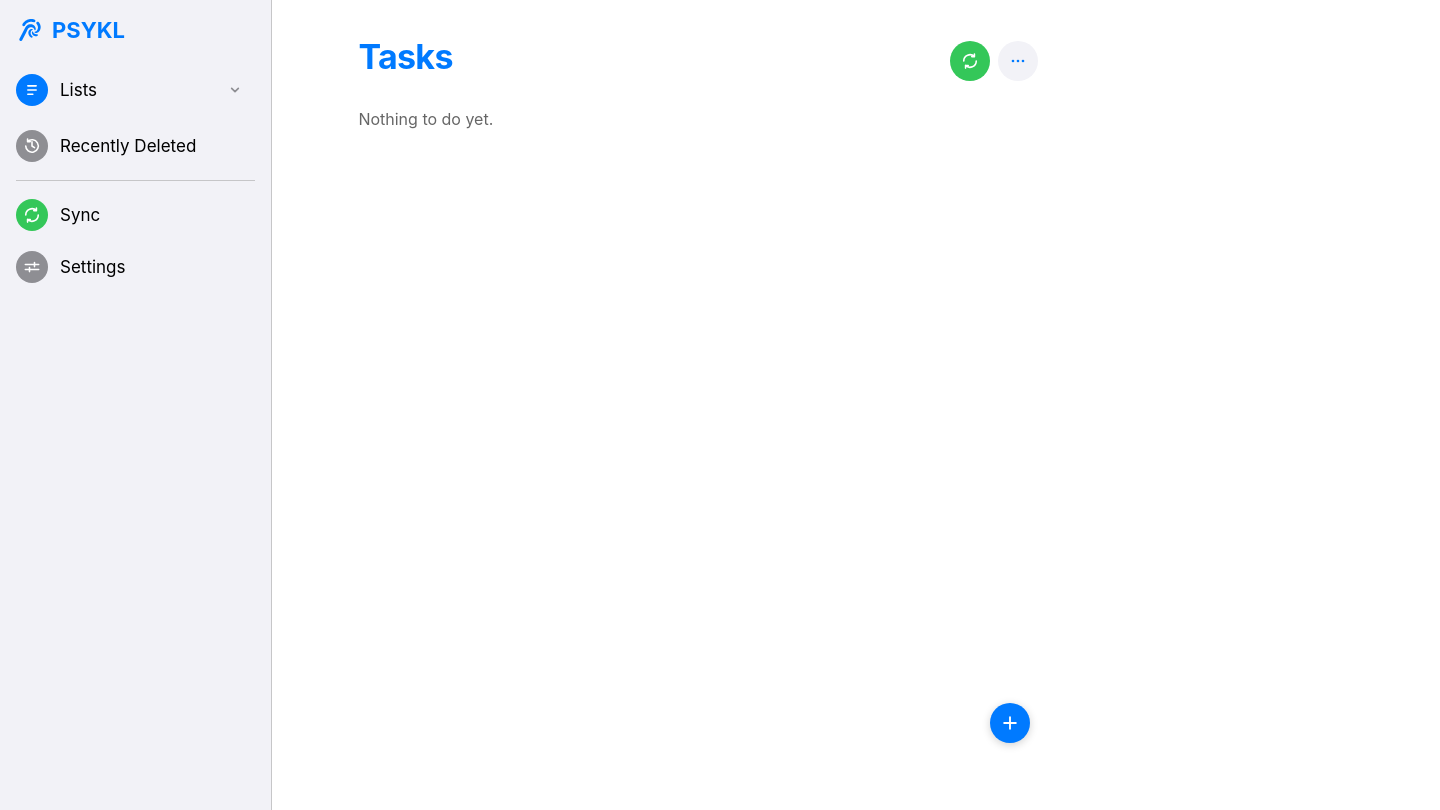
Scenario: App header in selection mode (Unit) › restores the ordinary header on the way out
Click the button named "List options" at [1018, 60], box 998,40 -> 1038,80
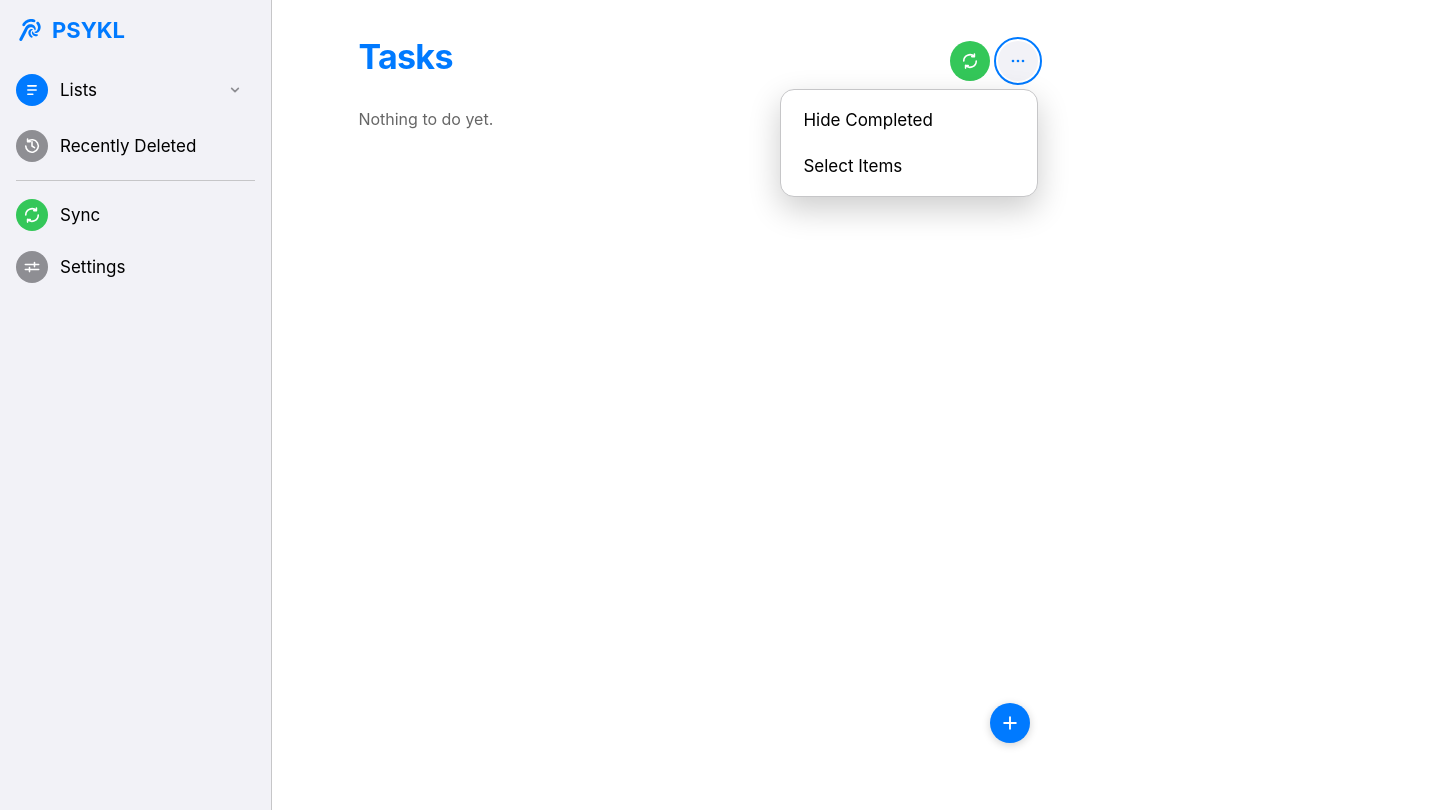
Click the menu item "Select Items" at [909, 166], box 789,144 -> 1029,188
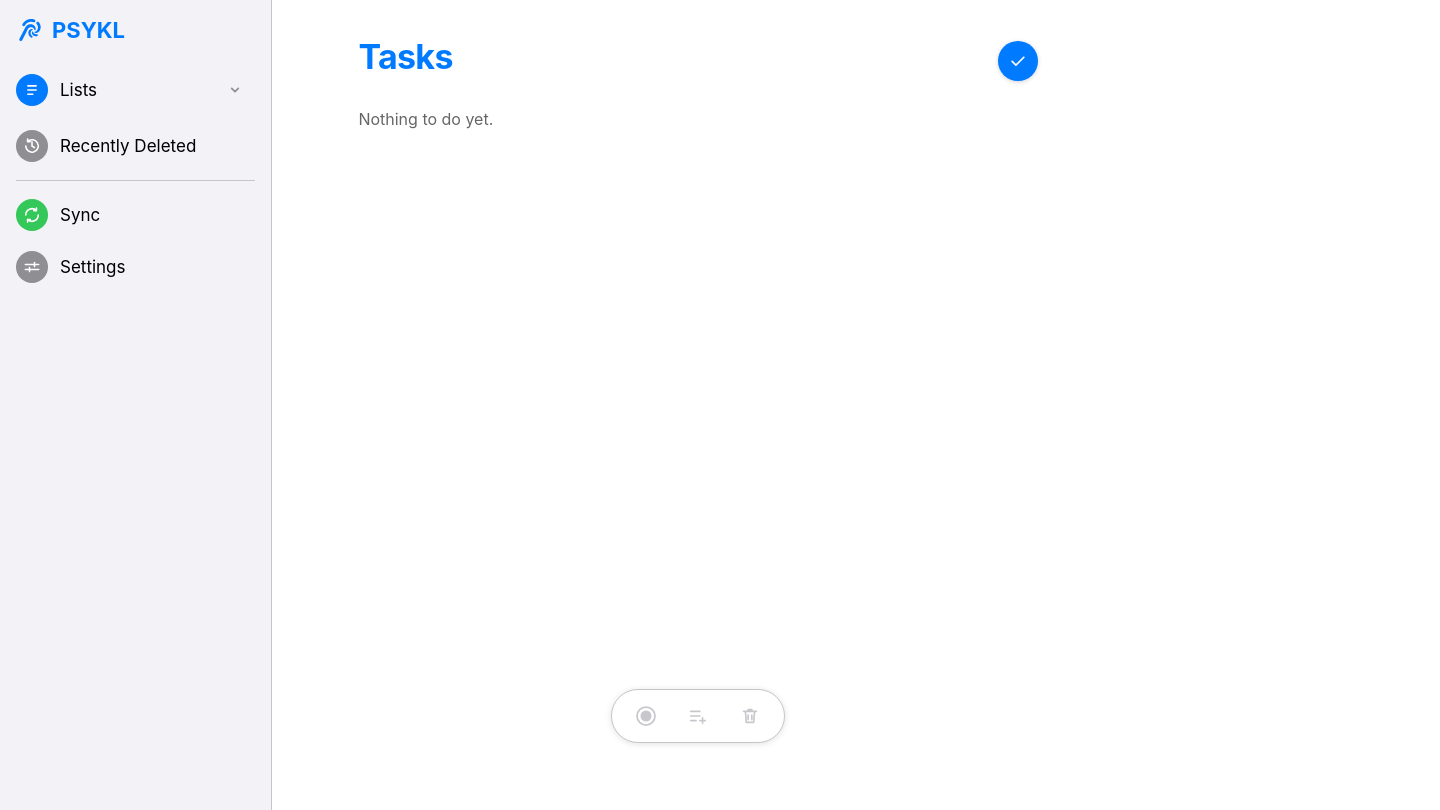
Click the button named "Done selecting" at [1018, 60], box 998,40 -> 1038,80
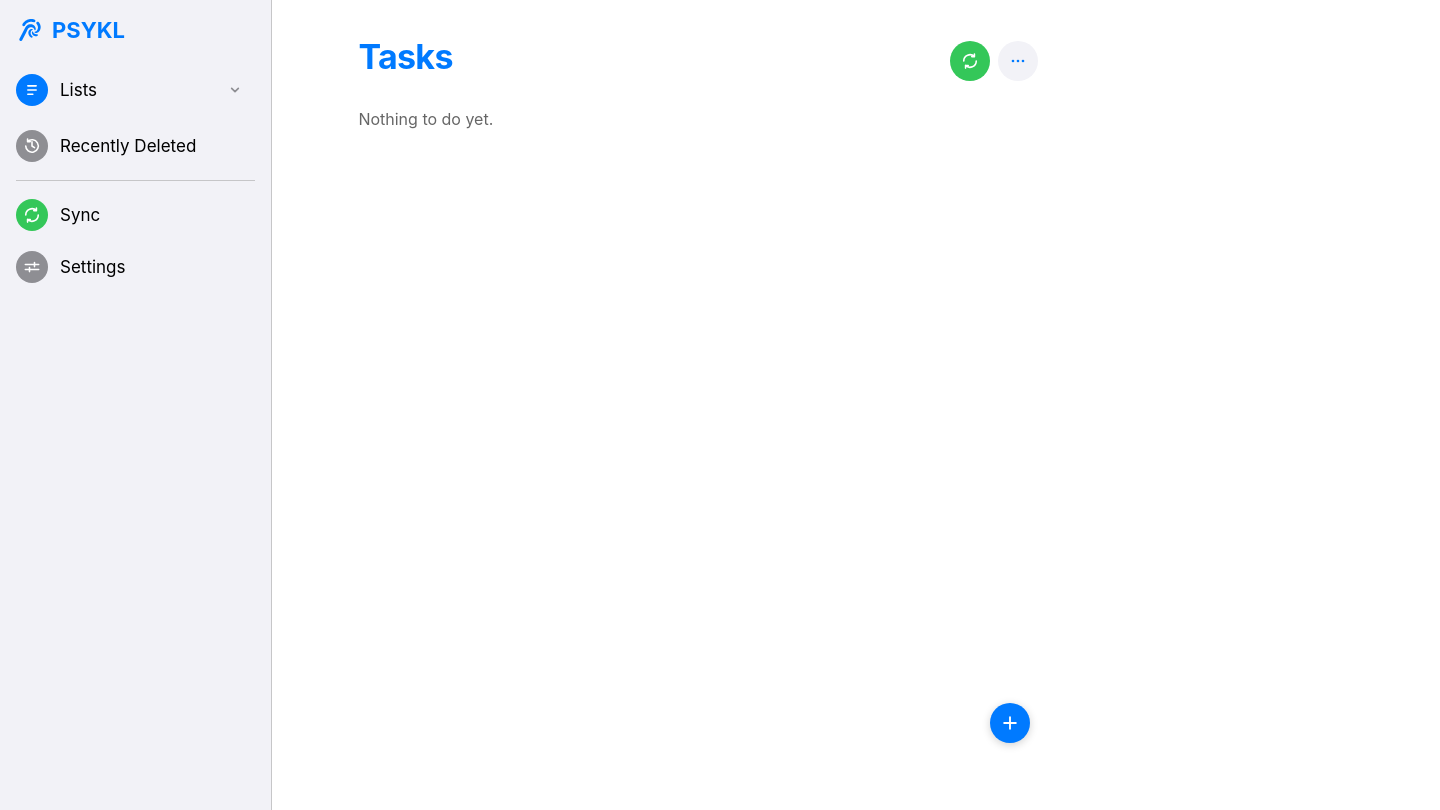
Now the button named "List options" is shown, box 998,40 -> 1038,80
Now the button named "Sync clear" is shown, box 950,40 -> 990,80
